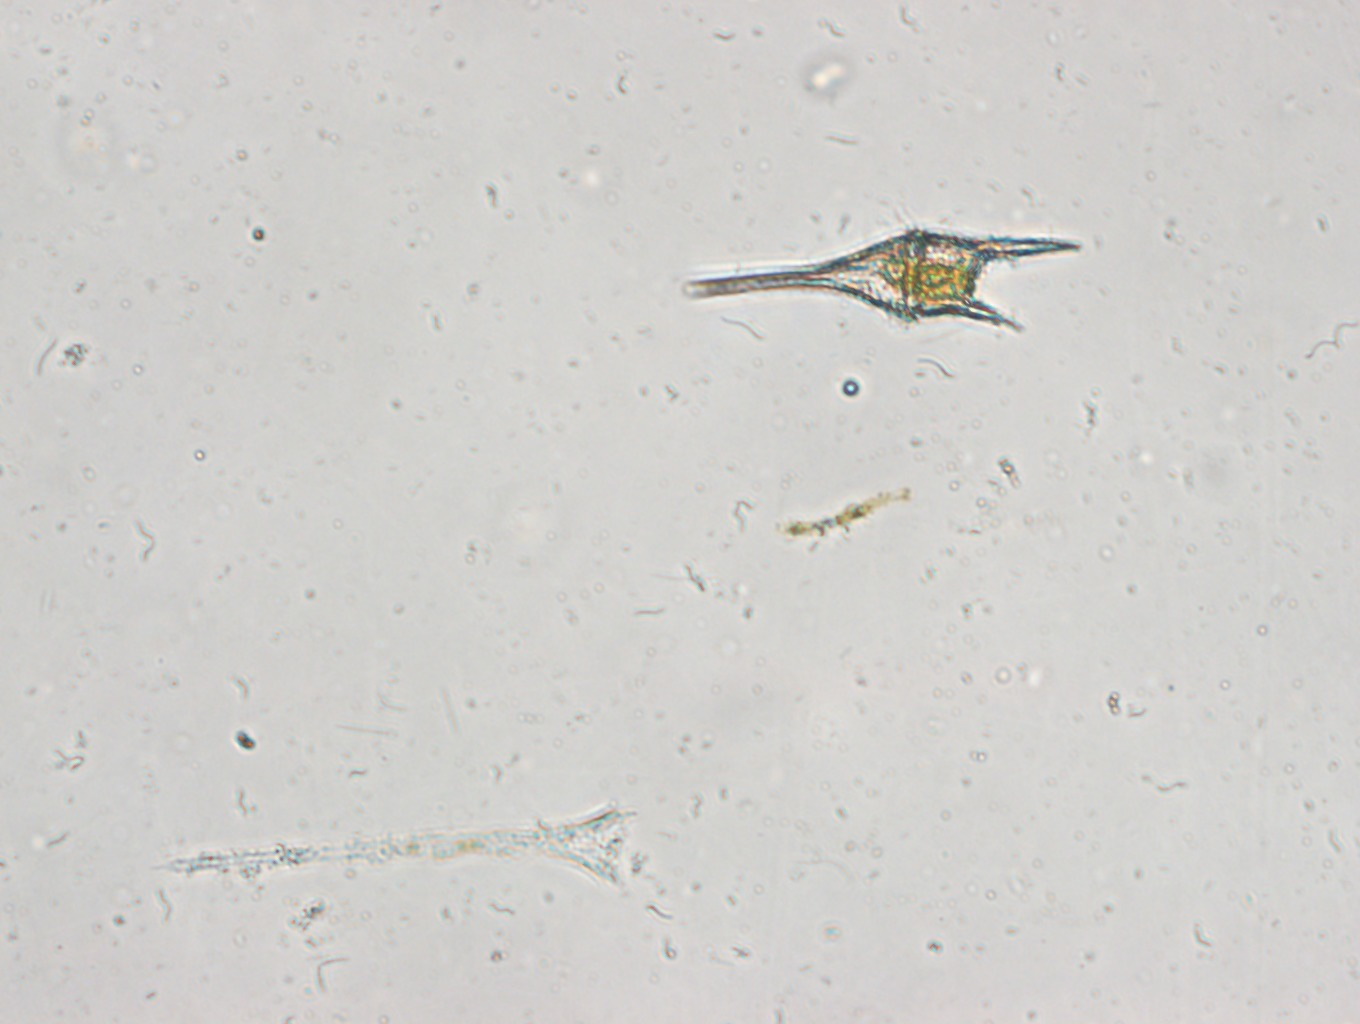ceratium furca: (675, 219, 1096, 342)
